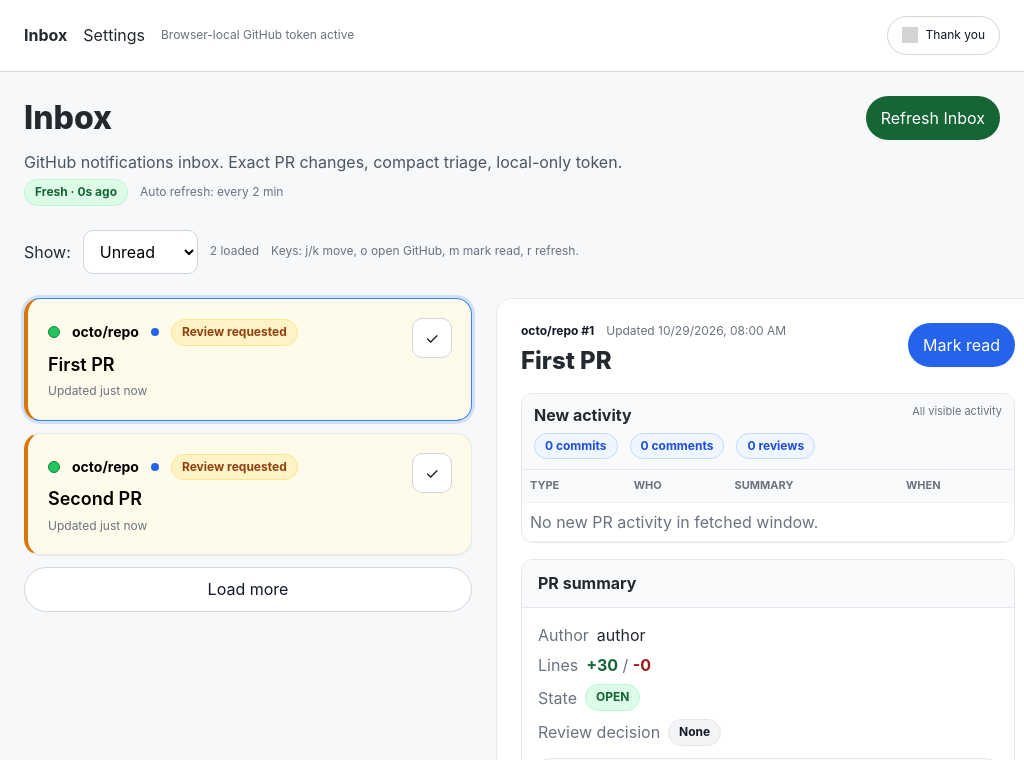
it: keeps existing rows when loading more fails and allows retry
Click the button "Load more" at coordinates (248, 590), box [24,567,472,612]
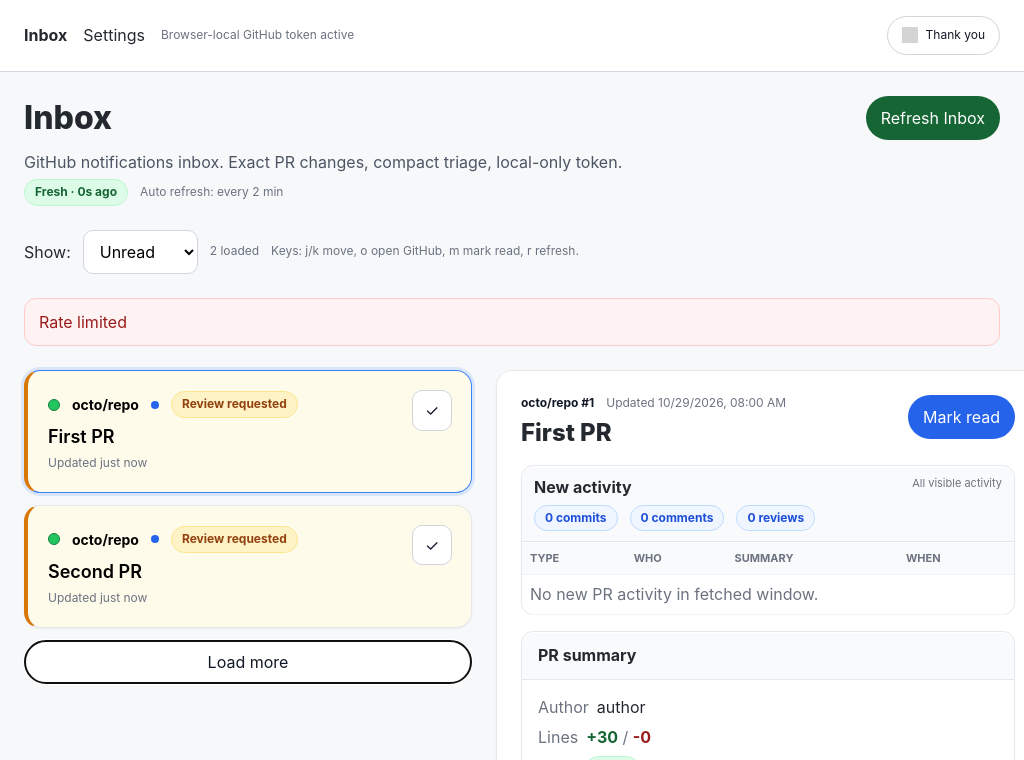
expect the text "2 loaded" is shown: met, box [210,243,259,260]
expect the text "Rate limited" is shown: met, box [24,298,1000,346]
